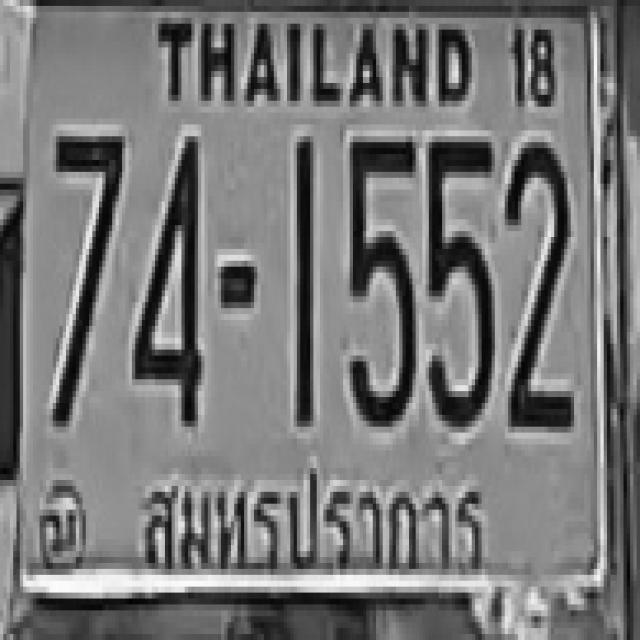1: (0, 166, 23, 486), (0, 175, 23, 477), (294, 133, 310, 424)
2: (503, 136, 569, 427)
4: (130, 130, 200, 421)
5: (426, 133, 492, 424), (347, 130, 412, 421)
7: (51, 130, 124, 421)
SamutPrakan: (125, 453, 497, 598)
